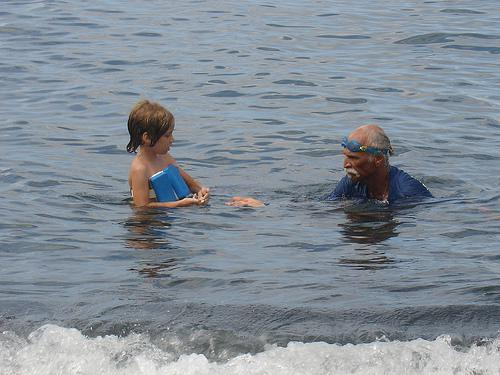human: (330, 121, 440, 210), (122, 97, 208, 210)
